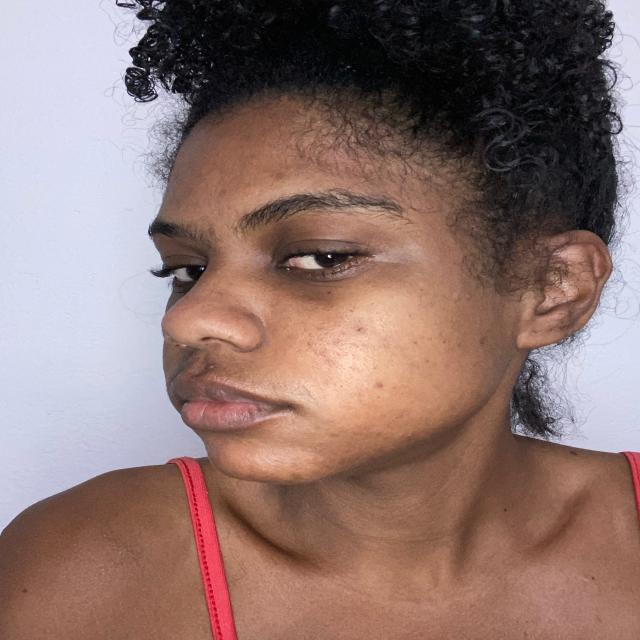acne: (284, 471, 305, 483), (271, 168, 288, 182), (214, 188, 230, 198), (373, 381, 387, 391), (398, 432, 415, 440), (205, 362, 218, 372), (326, 431, 342, 439), (476, 336, 488, 346), (354, 325, 366, 333), (464, 293, 474, 301)
dark circle: (260, 268, 368, 305)
pores: (299, 320, 383, 378)
